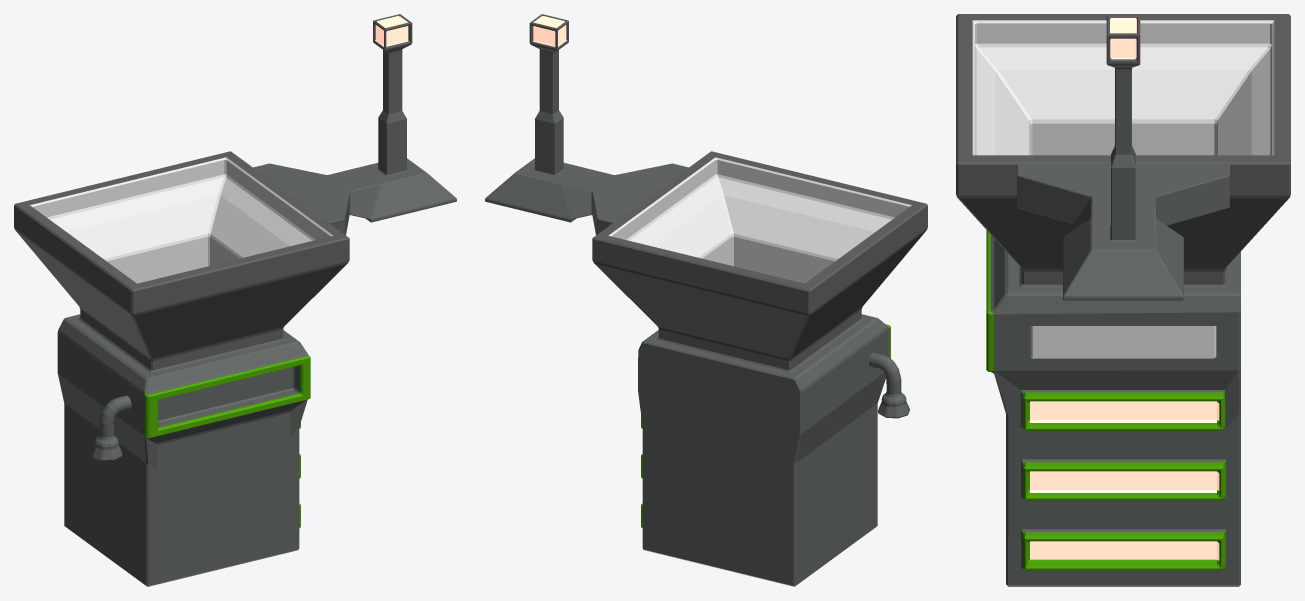
File: RefillStation_v2.fbx
3 renders of one model, left to right at view 1: azimuth 30°, elevation 25°; view 2: azimuth 150°, elevation 25°; view 3: azimuth 270°, elevation 25°, orthographic. The views are drawn at different scales.
Parts seen in each view (by area): view 1: Machine, Machine.Arm, Tube; view 2: Machine, Machine.Arm, Tube; view 3: Machine, Machine.Arm.
Boxes of the visible parts, box(x1,y1,x2,y2) form: Machine: box(14, 151, 349, 586); Machine.Arm: box(253, 14, 456, 235); Tube: box(90, 395, 131, 461); Machine: box(592, 151, 927, 586); Machine.Arm: box(485, 14, 688, 235); Tube: box(869, 352, 909, 418); Machine: box(956, 14, 1290, 586); Machine.Arm: box(1017, 15, 1229, 300).
Bounding box in the file's own units: 547 × 653 × 302.
